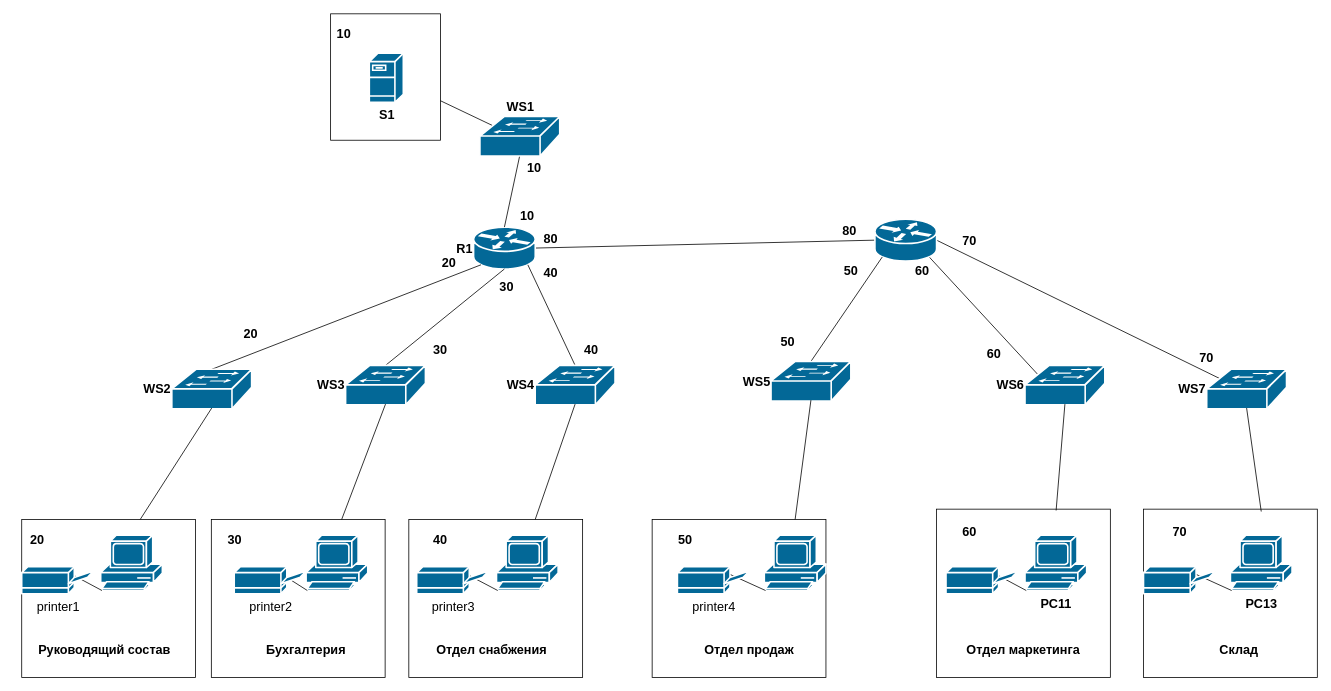
Image size: 1331x691. Some labels were removed from this diagram. Here are the shapes that lost their labels. From the top down, the centre of each, then its label:
(905,239): R2
(131,562): PC1
(336,562): PC3
(527,562): PC5
(794,562): PC8
(981,580): printer5
(1179,580): printer6
